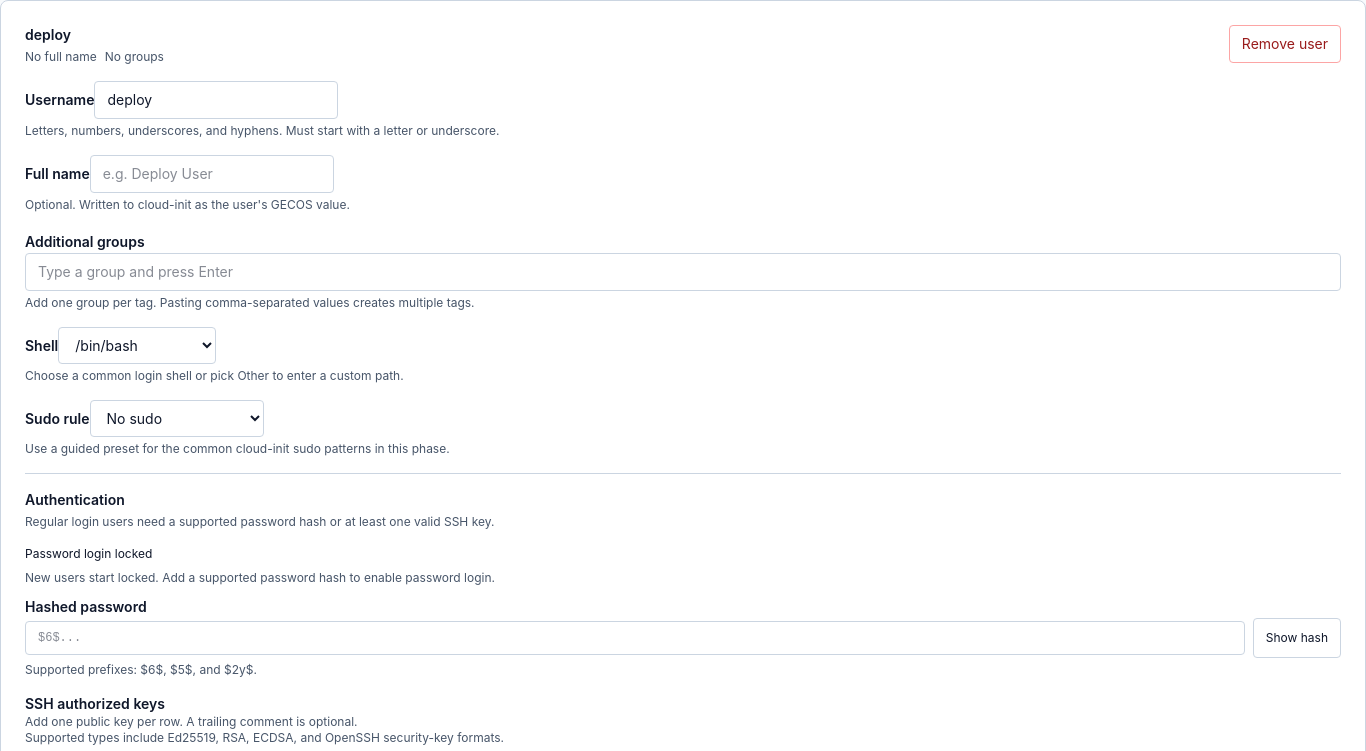
Test: UserSafetyFields authentication controls › shows unsupported password draft errors inline without persisting them
Expected: the text "Export blocked: enter a supported password hash" is not shown
Type "hunter2" into the password field labelled "Hashed password". click: (635, 638)
box: [25,621,1245,655]
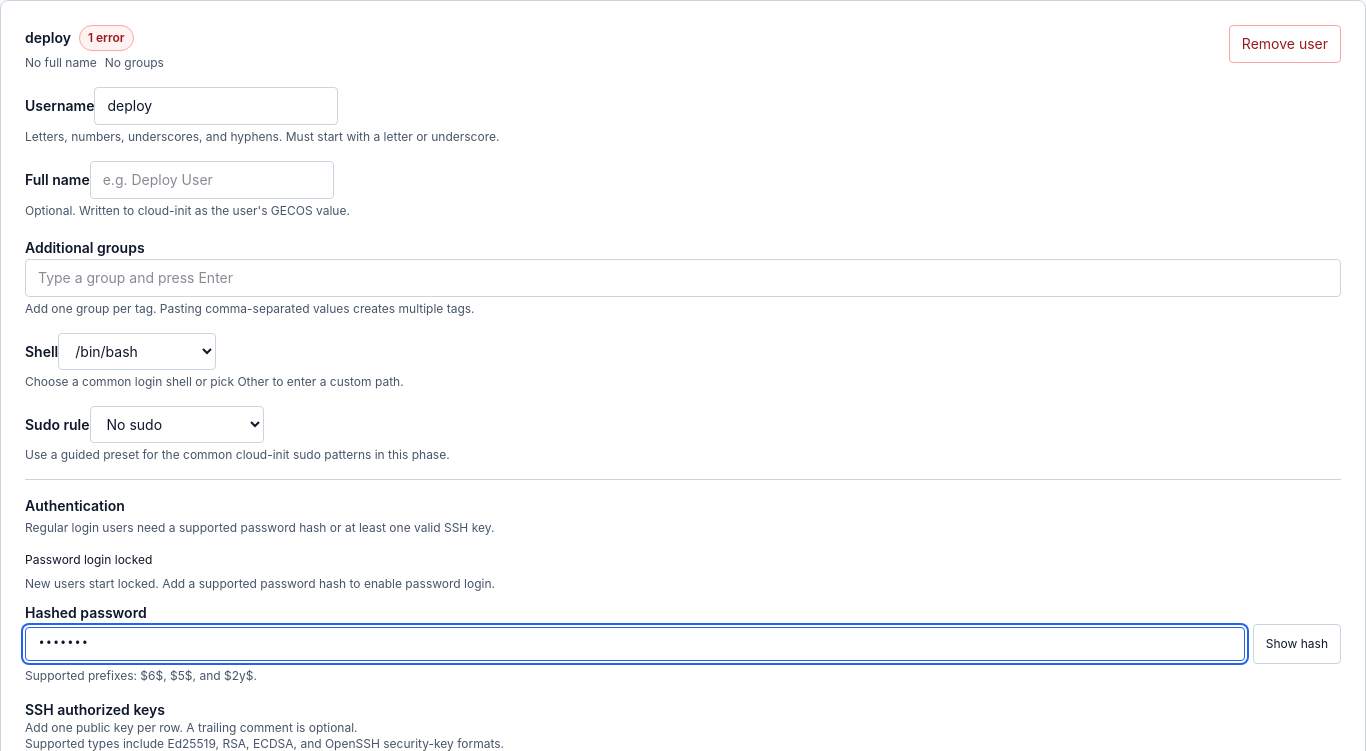
Leave the password field labelled "Hashed password", box [25,627,1245,661]
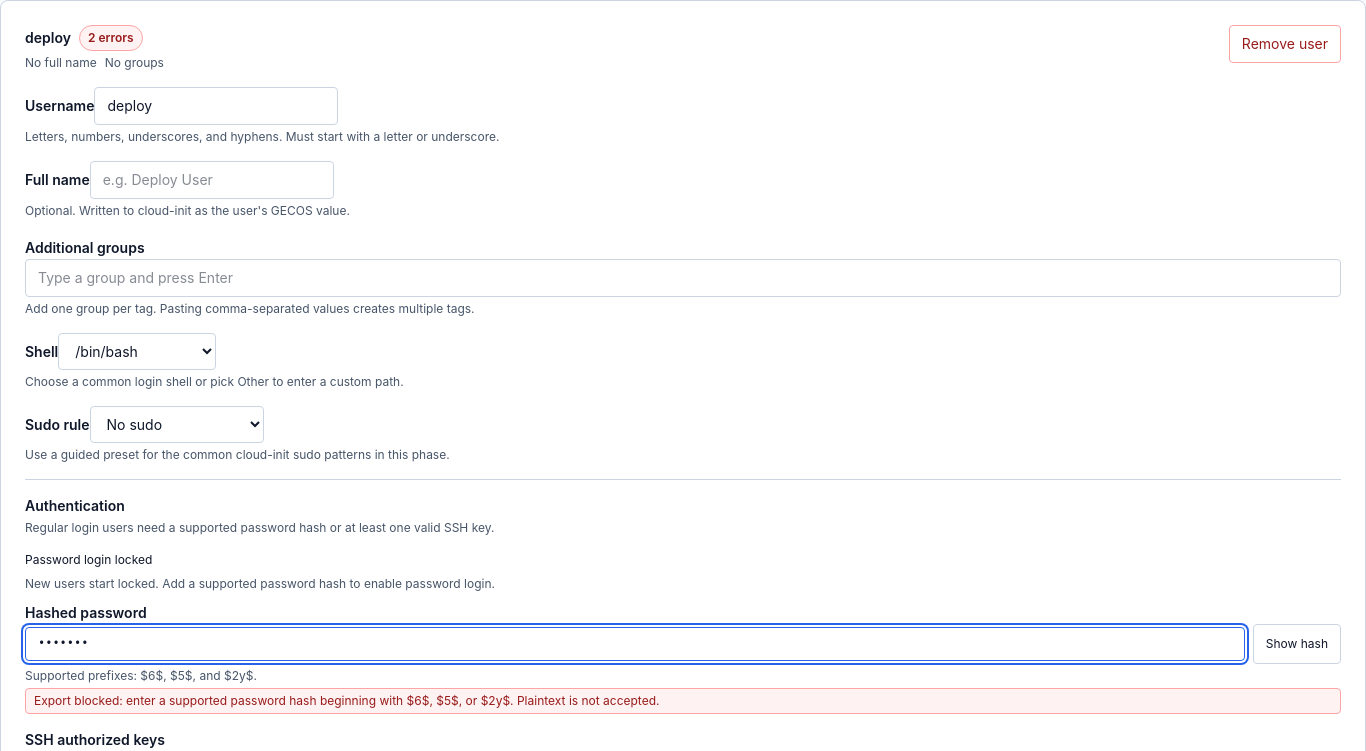
Expected: the text "Export blocked: enter a supported password hash" is shown, [34,693,660,708]
